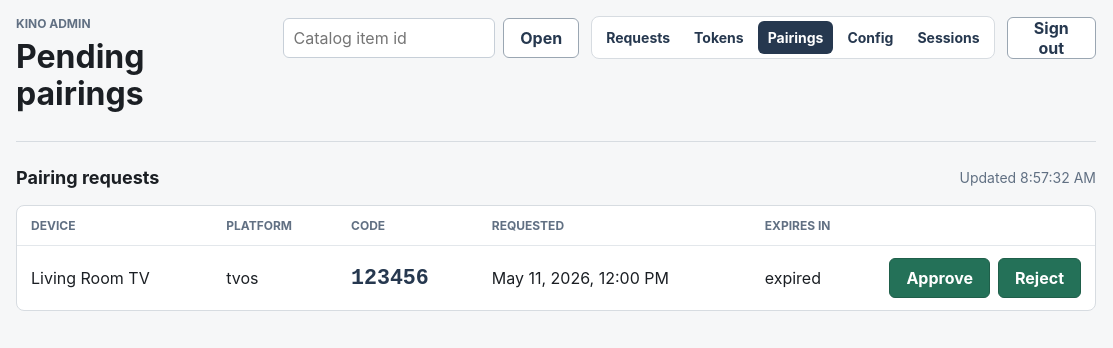
rejects a pairing, shows status, and refreshes the list
Check: the text "Living Room TV" is shown, box [17,246,212,310]
Click the button "Reject" at (1040, 278), box [998,258,1081,298]
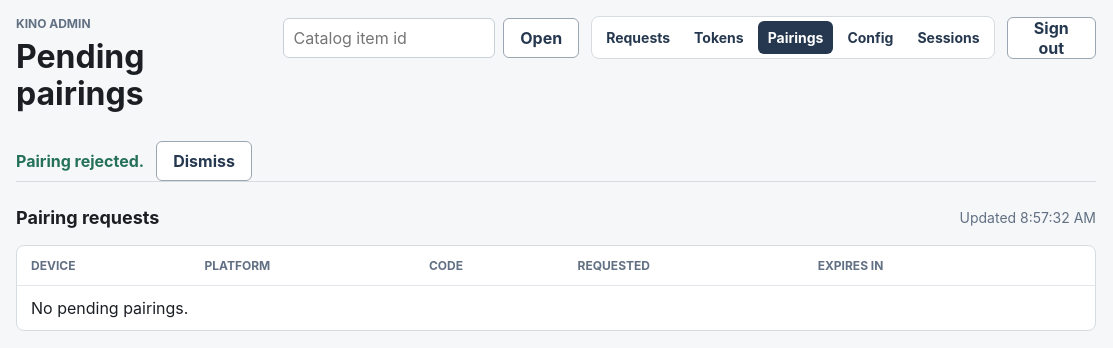
Check: the text "Pairing rejected." is shown, box [16,151,144,171]
Check: the text "No pending pairings." is shown, box [17,286,1095,330]
